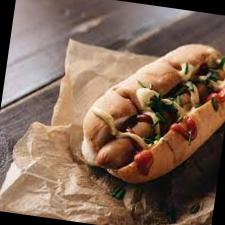Completos: (68, 14, 225, 181)
